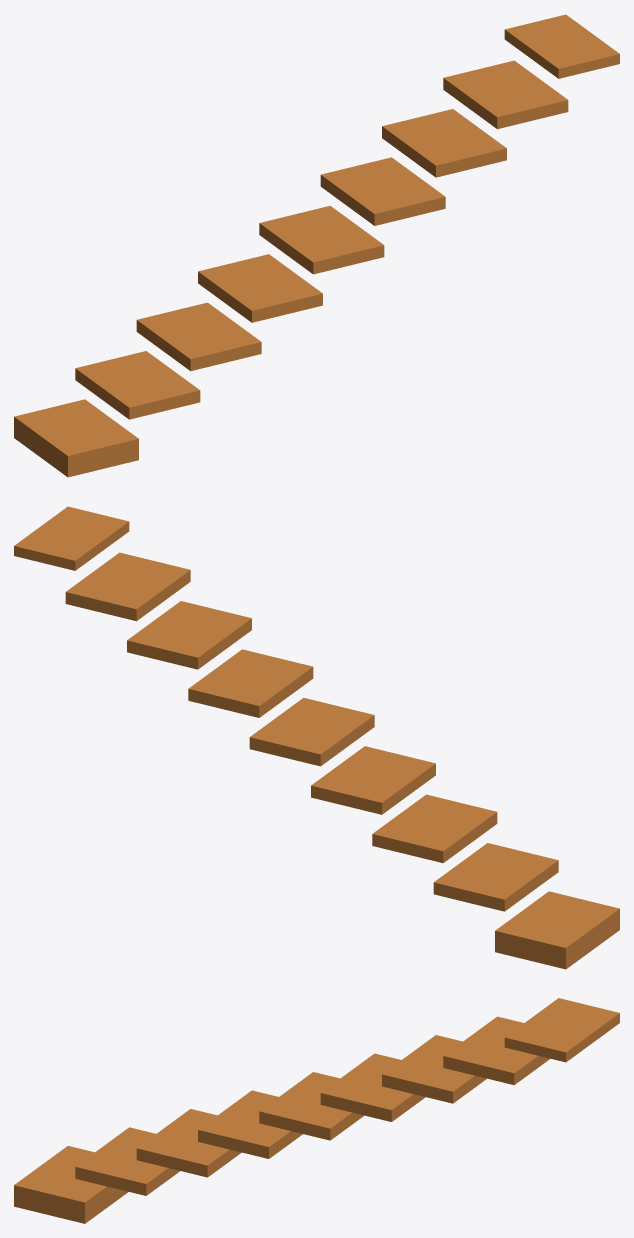
Rendered from Scaffold_Stairs_Separate_Wood_01.FBX.
3 views of the same model, one above another, from view 1: azimuth 30°, elevation 25°; view 2: azimuth 150°, elevation 25°; view 3: azimuth 330°, elevation 25° (orthographic).
Parts seen in each view (by area): view 1: Scaffold_Stairs_Separate_Wood_01; view 2: Scaffold_Stairs_Separate_Wood_01; view 3: Scaffold_Stairs_Separate_Wood_01.
Part boxes in pixels (bbox=[...]): Scaffold_Stairs_Separate_Wood_01: bbox=[14, 14, 619, 477]; Scaffold_Stairs_Separate_Wood_01: bbox=[14, 506, 619, 969]; Scaffold_Stairs_Separate_Wood_01: bbox=[14, 998, 619, 1223].
Size of the model in its own units: 7260 by 3630 by 1229.
